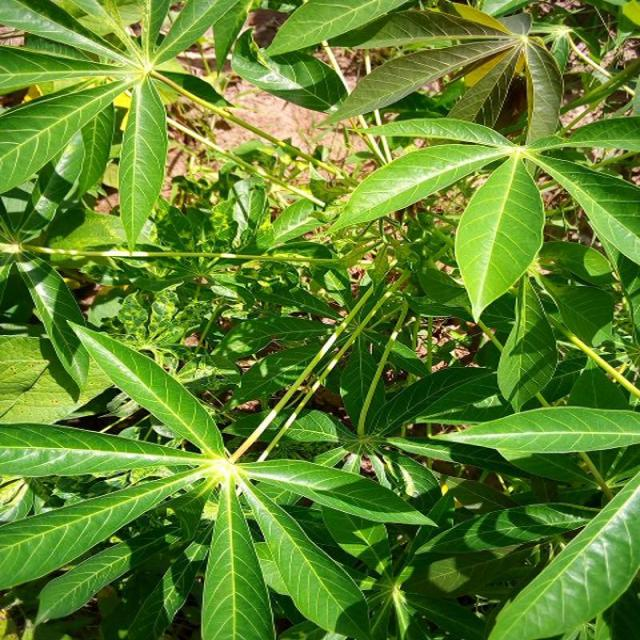cassava leaf: (1, 1, 638, 638), (454, 153, 544, 324)
